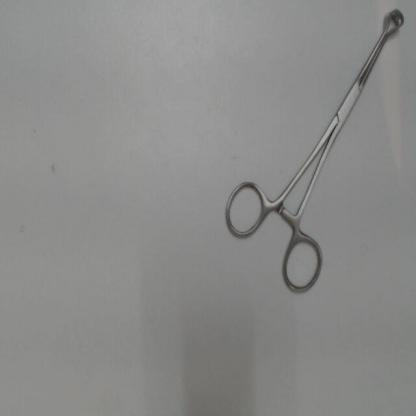Babcock Tissue Forceps: (220, 4, 410, 300)
